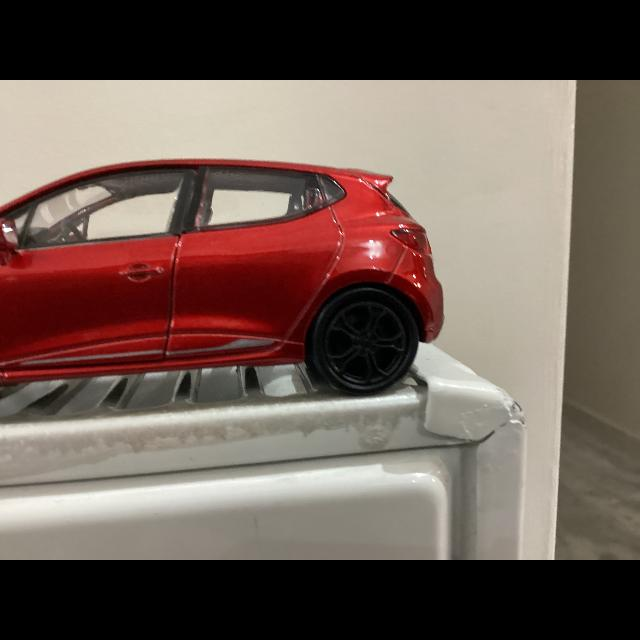Dogru_Jant: (326, 301, 406, 384)
